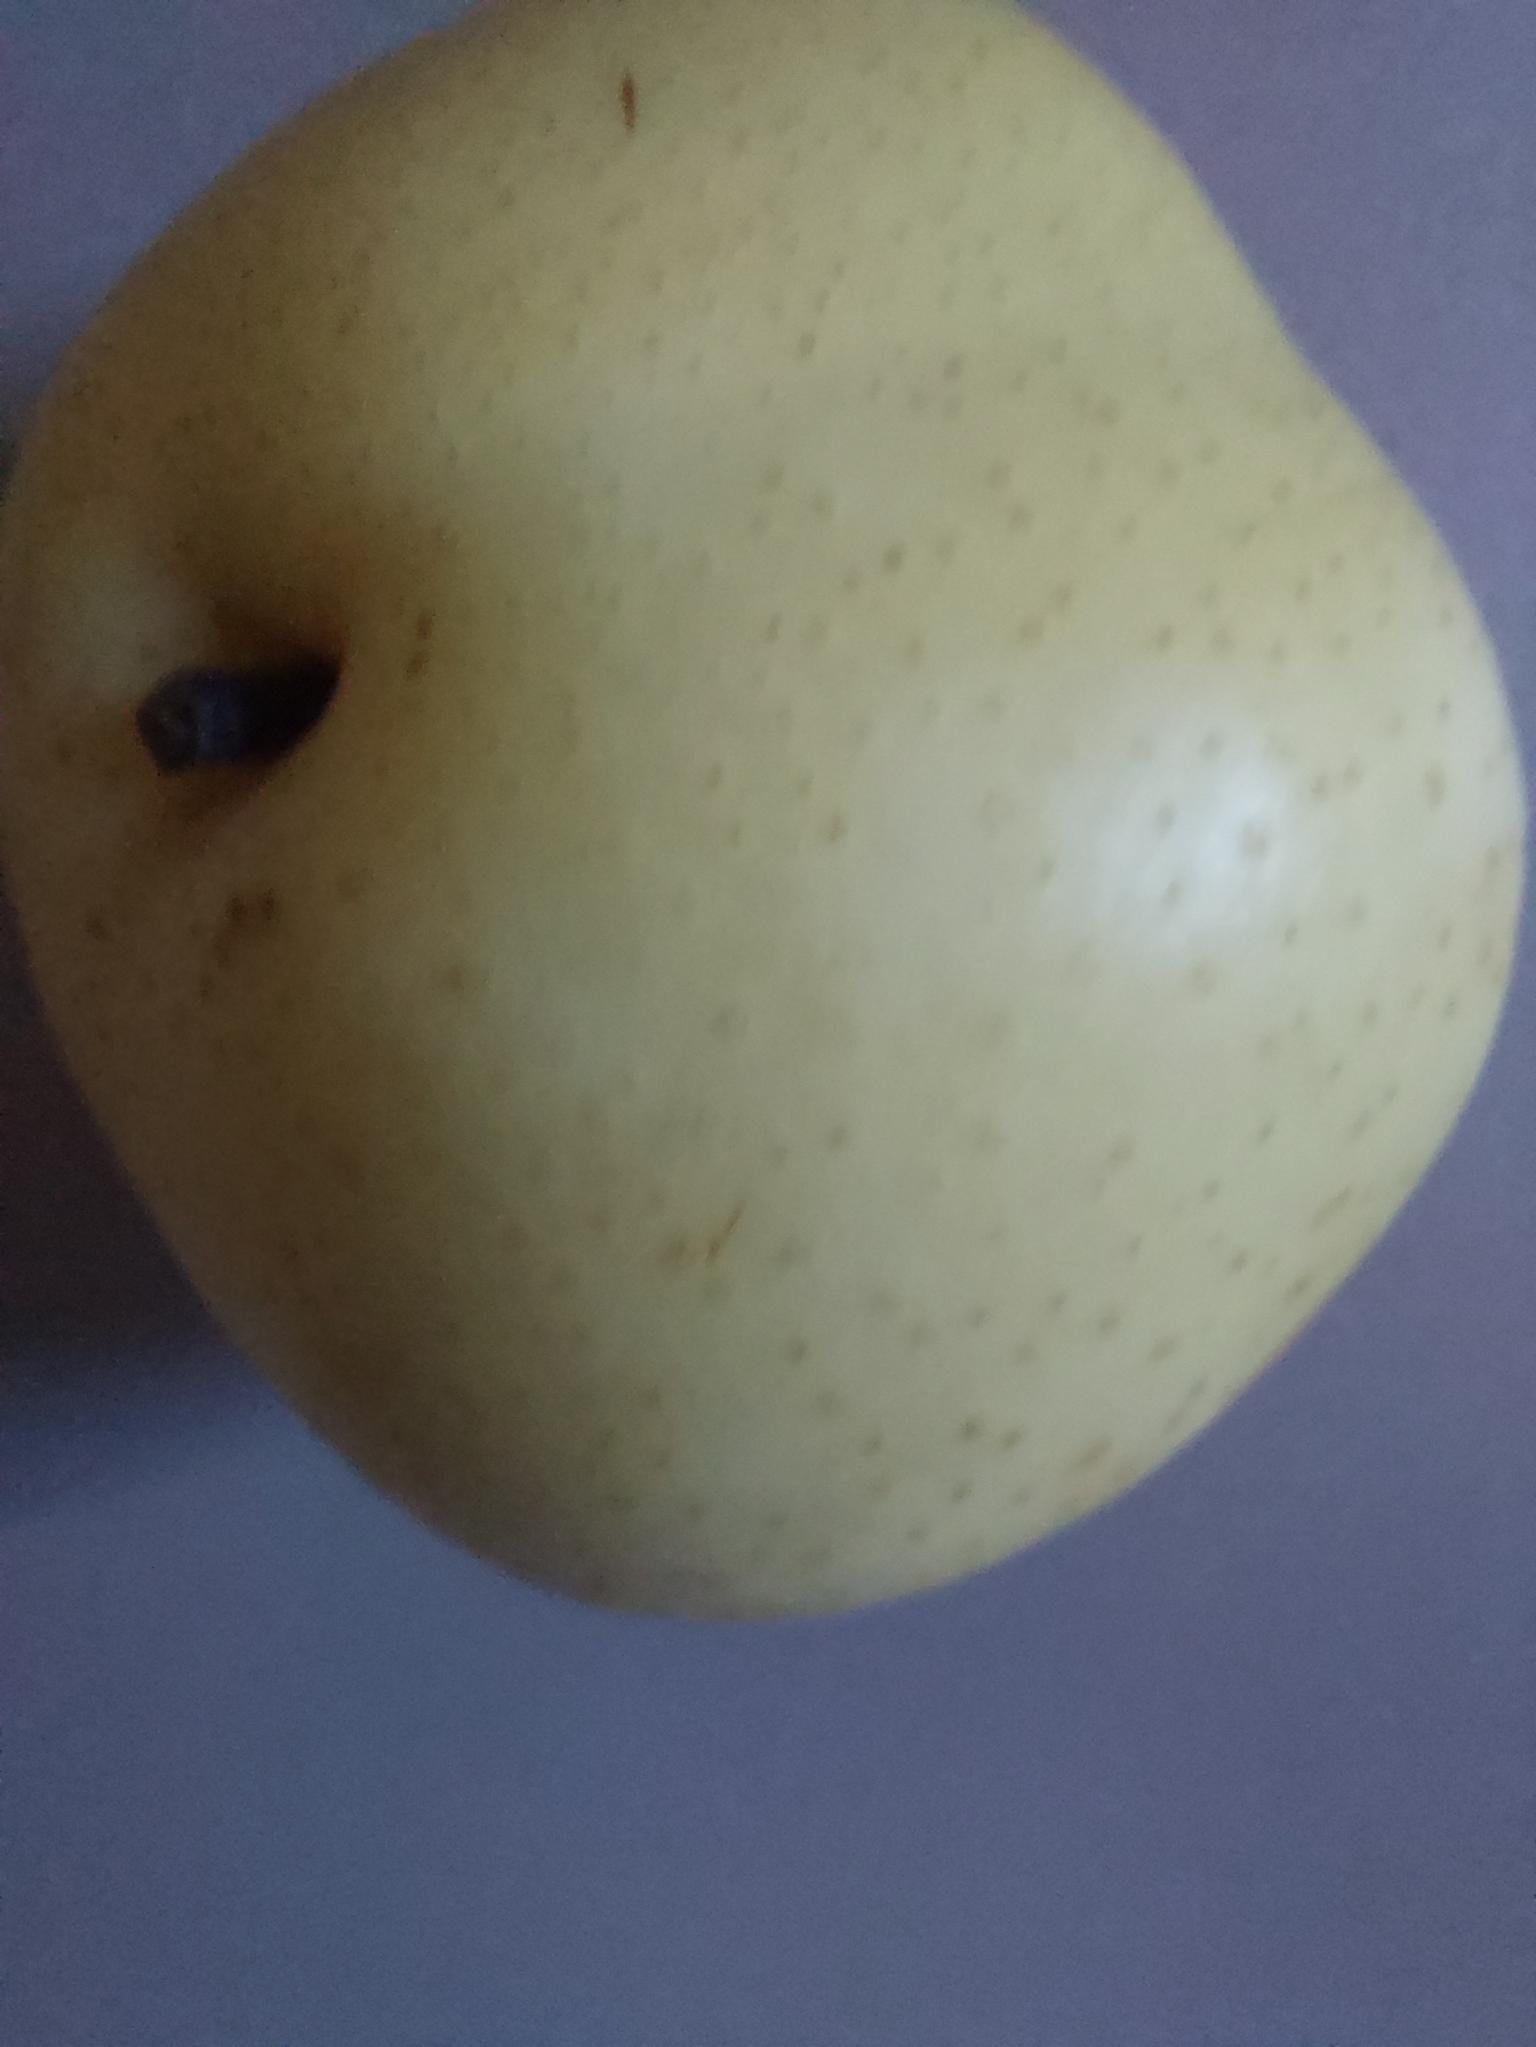Good Pear: (0, 0, 1536, 1661)
